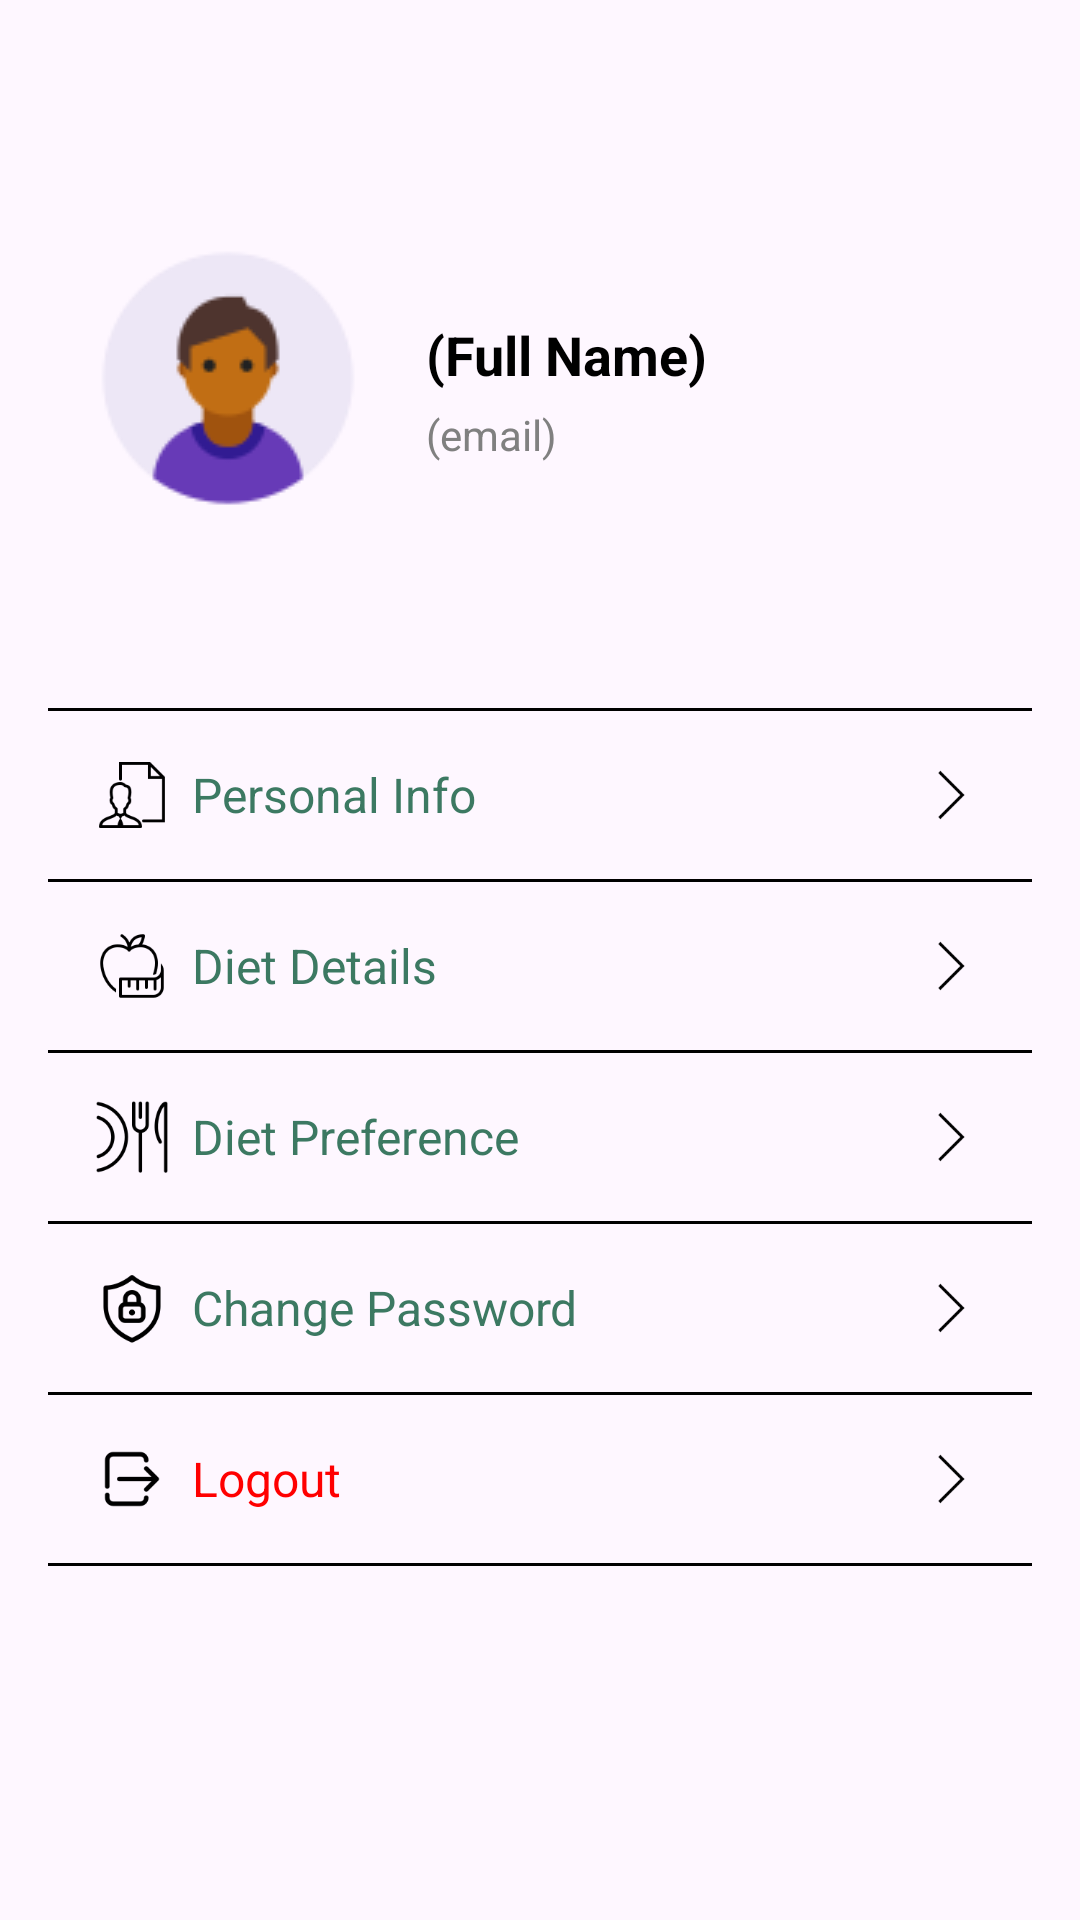

Icons on this 1080x1920 Android screen, each with the point to tap as point (x, y):
more than: point (951, 795), point (951, 966), point (951, 1137), point (951, 1308), point (951, 1479)
Profile Image: point (228, 399)
